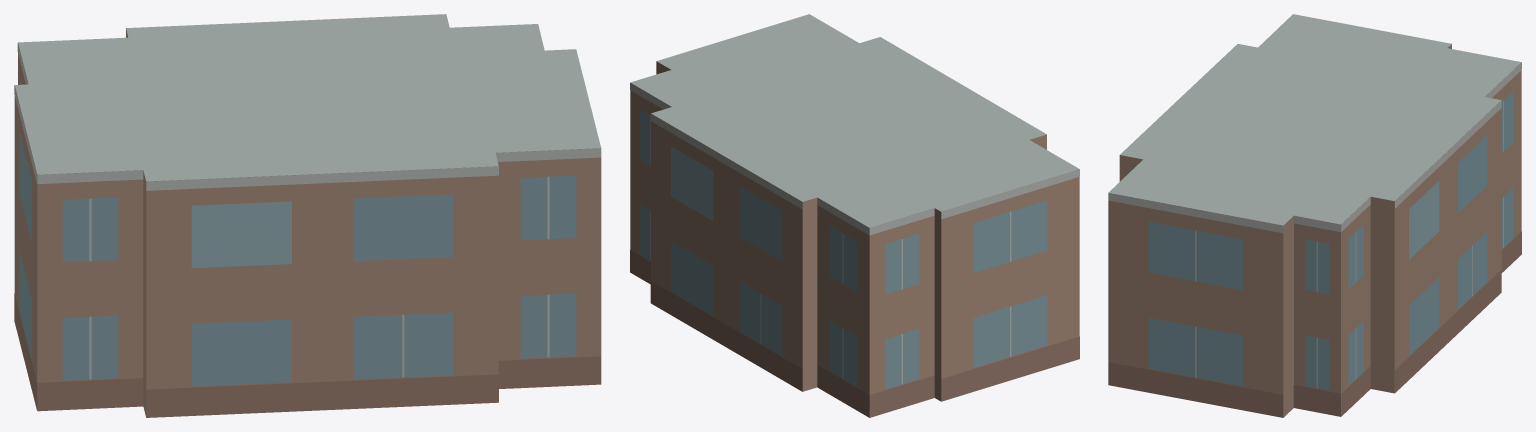
Rendered from survey-upis-32658796.glb.
3 renders of one model, left to right at view 1: azimuth 30°, elevation 25°; view 2: azimuth 150°, elevation 25°; view 3: azimuth 270°, elevation 25°, orthographic. The views are drawn at different scales.
Parts seen in each view (by area): view 1: survey-upis-32658796.tmp; view 2: survey-upis-32658796.tmp; view 3: survey-upis-32658796.tmp.
Boxes of the visible parts, box(x1,y1,x2,y2) form: survey-upis-32658796.tmp: box(14, 14, 601, 417); survey-upis-32658796.tmp: box(630, 14, 1079, 417); survey-upis-32658796.tmp: box(1108, 14, 1521, 417).
Bounding box in the file's own units: 14.4 × 6.1 × 11.9.
